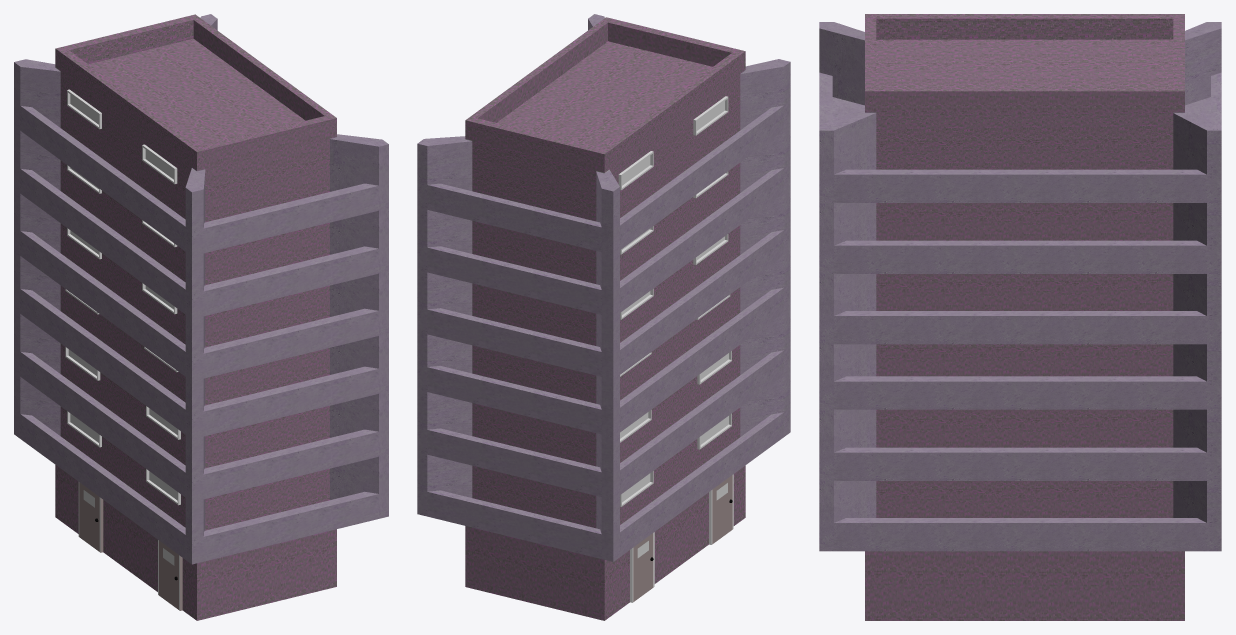
Rendered from Building_11_VAL.fbx.
3 renders of one model, left to right at view 1: azimuth 30°, elevation 25°; view 2: azimuth 150°, elevation 25°; view 3: azimuth 270°, elevation 25°, orthographic. The views are drawn at different scales.
Visible parts, largest first — view 1: pCube7, pCube9, pCube4, pCube10, pCube3, pCube5, pCube2, pCube8, pCube11 (×2), window9, window8; view 2: pCube7, pCube9, pCube4, pCube10, pCube3, pCube5, pCube8, pCube2, pCube11 (×2), window9, window8; view 3: pCube7, pCube4, pCube3, pCube9, pCube10, pCube5, pCube2, pCube8.
Part boxes in pixels (x1,y1,x2,y2): pCube7: (14,14,388,256); pCube9: (14,126,388,318); pCube4: (14,309,388,502); pCube10: (14,189,388,381); pCube3: (14,372,388,564); pCube5: (14,245,388,439); pCube2: (55,465,336,620); pCube8: (14,62,378,255); pCube11 (×2): (78,482,182,610); window9: (142,144,177,184); window8: (67,89,101,129); pCube7: (417,14,790,254); pCube9: (417,126,790,317); pCube4: (417,307,790,499); pCube10: (417,186,790,379); pCube3: (417,369,790,561); pCube5: (417,244,790,436); pCube8: (417,62,790,254); pCube2: (465,465,745,620); pCube11 (×2): (630,474,733,602); window9: (693,96,728,135); window8: (618,151,653,190); pCube7: (819,14,1221,202); pCube4: (819,408,1221,480); pCube3: (819,479,1221,551); pCube9: (819,202,1221,273); pCube10: (819,272,1221,344); pCube5: (819,337,1221,409); pCube2: (865,551,1184,620); pCube8: (819,38,1199,169).
Bounding box in the file's own units: 14.53 × 33.04 × 22.73.
